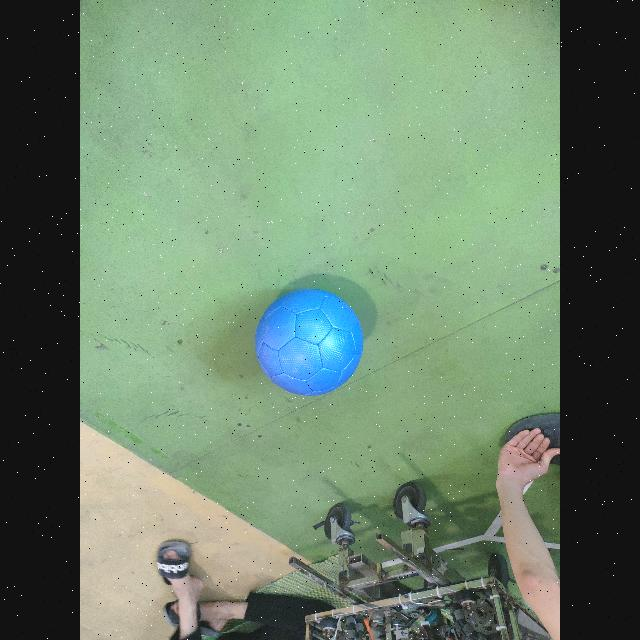B: (254, 285, 365, 396)
